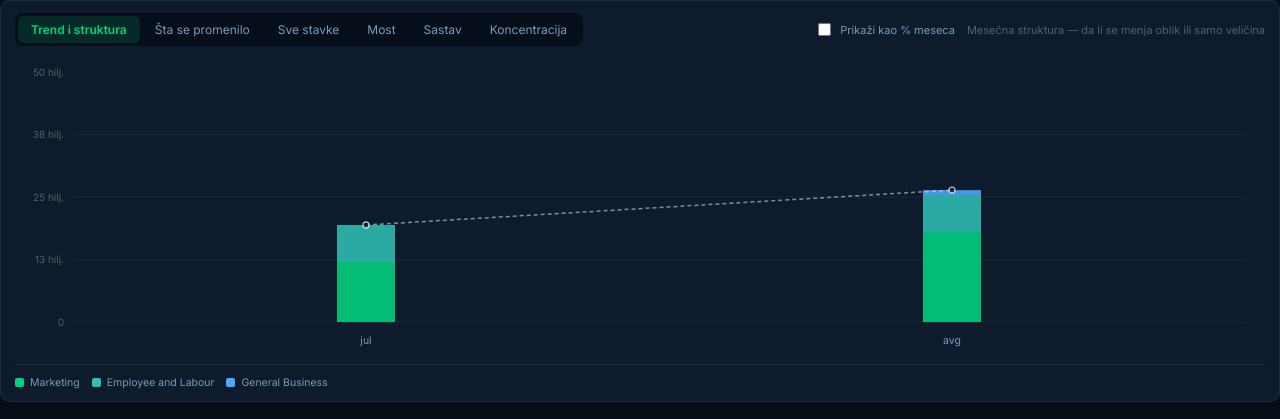
Test case: the panels that read a level › offers the heatmap a per-line scale
The width and height of the screenshot is (1280, 419).
Click the button "Sve stavke" at (308, 30), box [265,16,352,43]
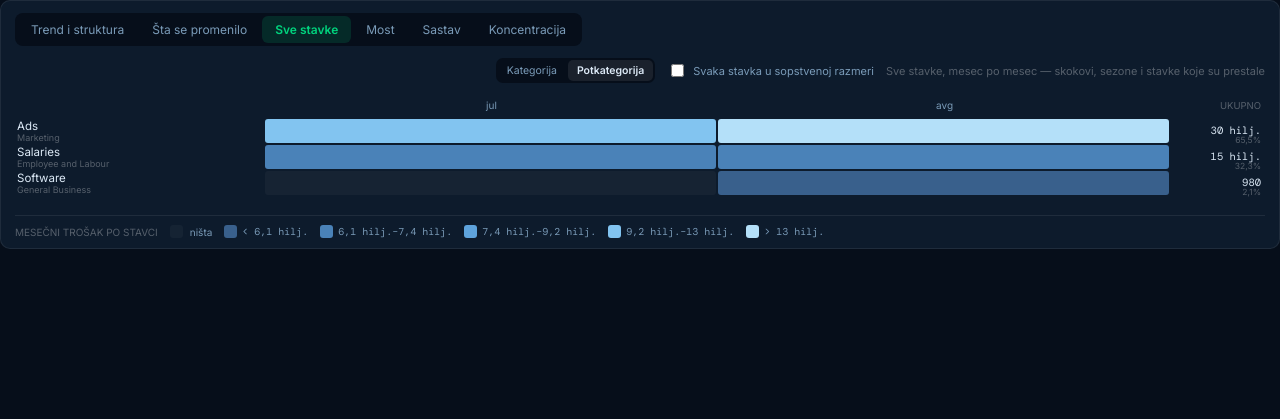
Check: the text "Svaka stavka u sopstvenoj razmeri" is shown, box [667,61,874,80]
